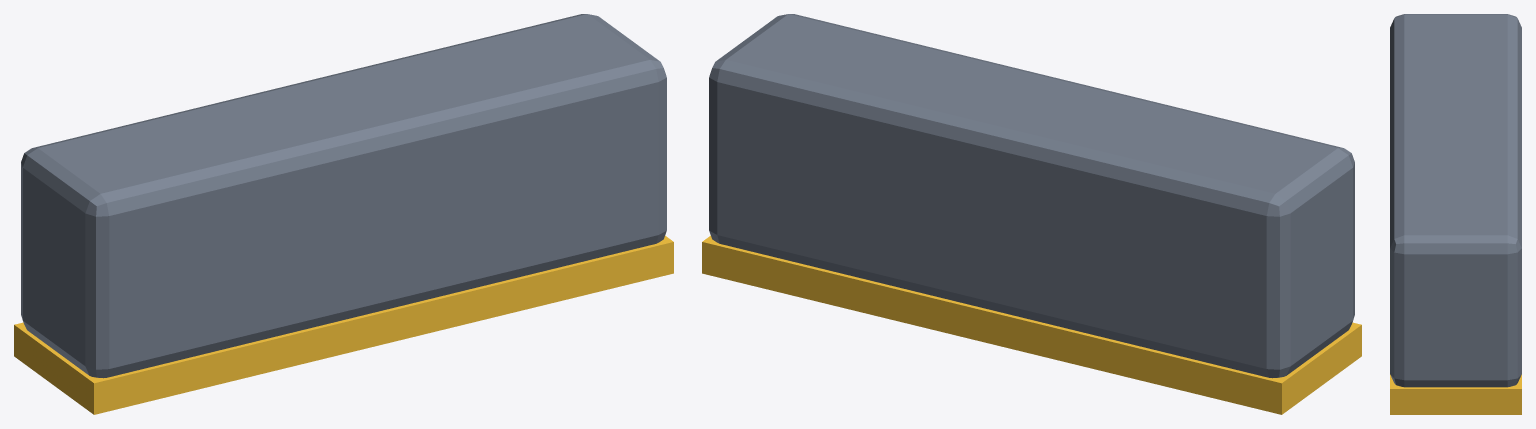
Rendered from trap_crusher_press.glb.
The picture shows the model from 3 angles, left to right: view 1: azimuth 30°, elevation 25°; view 2: azimuth 150°, elevation 25°; view 3: azimuth 270°, elevation 25°; orthographic projection. The views are drawn at different scales.
Visible parts, largest first — view 1: trap_crusher_press; view 2: trap_crusher_press; view 3: trap_crusher_press.
Boxes of the visible parts, x1,y1,x2,y2 form: trap_crusher_press: (14,14,673,414); trap_crusher_press: (702,14,1361,414); trap_crusher_press: (1390,14,1521,414).
Bounding box in the file's own units: 2.3 × 0.8 × 0.55.
